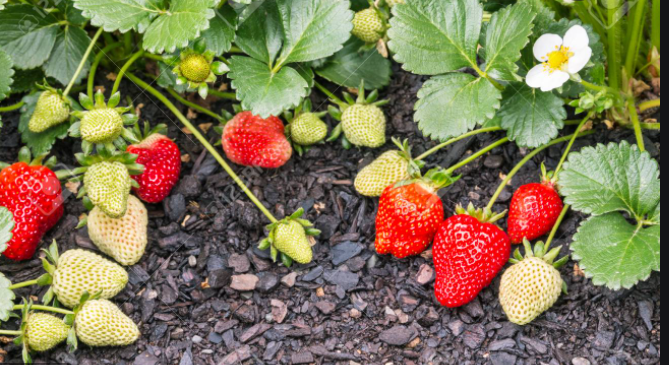ripe: (433, 210, 510, 307), (0, 161, 64, 260), (370, 176, 445, 260), (220, 106, 293, 170), (125, 131, 182, 204), (506, 180, 561, 244)
unripe: (48, 244, 129, 310), (495, 249, 565, 325), (84, 195, 153, 267), (74, 297, 144, 349), (350, 146, 415, 198), (80, 161, 131, 216), (268, 213, 317, 264), (18, 310, 70, 355), (27, 85, 70, 138), (340, 100, 387, 147), (77, 103, 124, 147), (285, 110, 328, 145)
